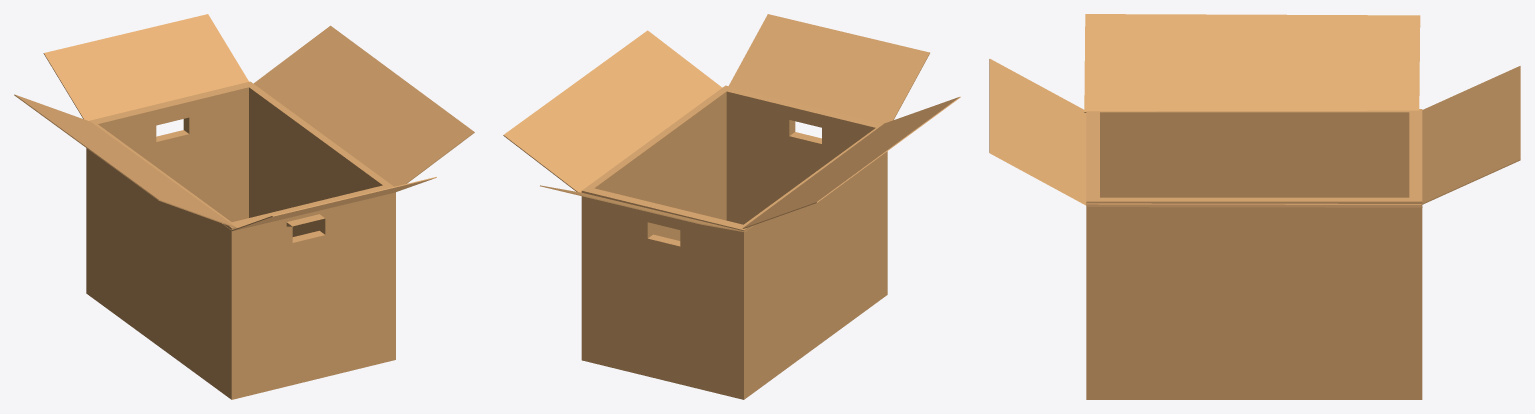
The model's file is Cardboardbox2.fbx.
3 renders of one model, left to right at view 1: azimuth 30°, elevation 25°; view 2: azimuth 150°, elevation 25°; view 3: azimuth 270°, elevation 25°, orthographic. The views are drawn at different scales.
Visible parts, largest first — view 1: Cube; view 2: Cube; view 3: Cube.
Boxes of the visible parts, x1,y1,x2,y2 form: Cube: (14, 14, 474, 399); Cube: (503, 14, 960, 399); Cube: (989, 14, 1520, 399).
Size of the model in its own units: 387 by 254 by 485.
